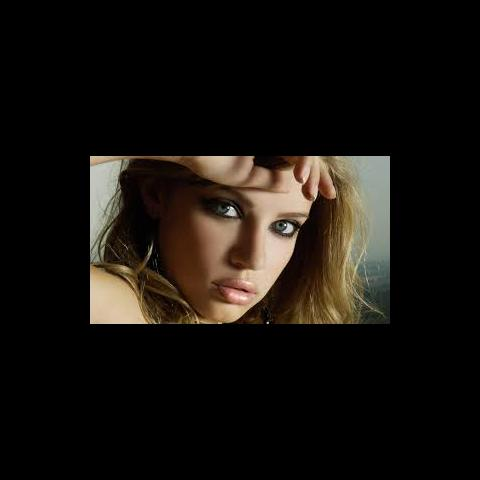opened: (192, 174, 308, 245)
